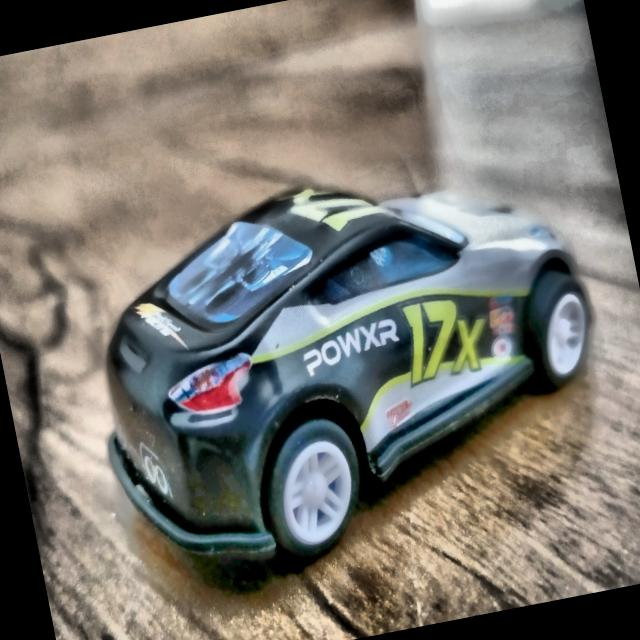Car: (70, 132, 630, 586)
